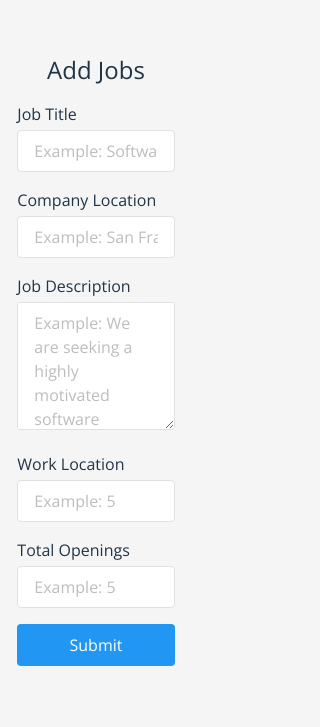
AddJobs › displays an error message when the form is submitted with empty fields
The image size is (320, 727).
Click the button "Submit".
click(96, 645)  # box [17, 624, 175, 666]
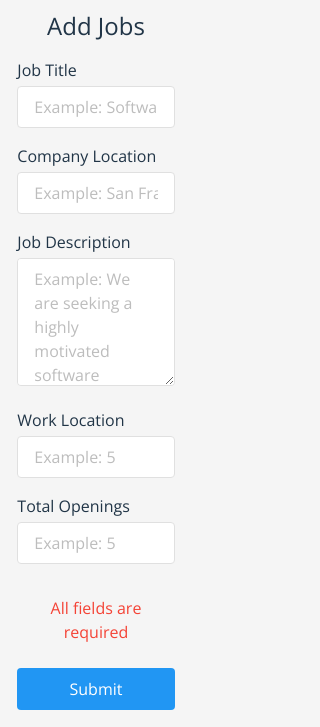
Now the text "All fields are required" is shown, box [51, 597, 141, 643]
